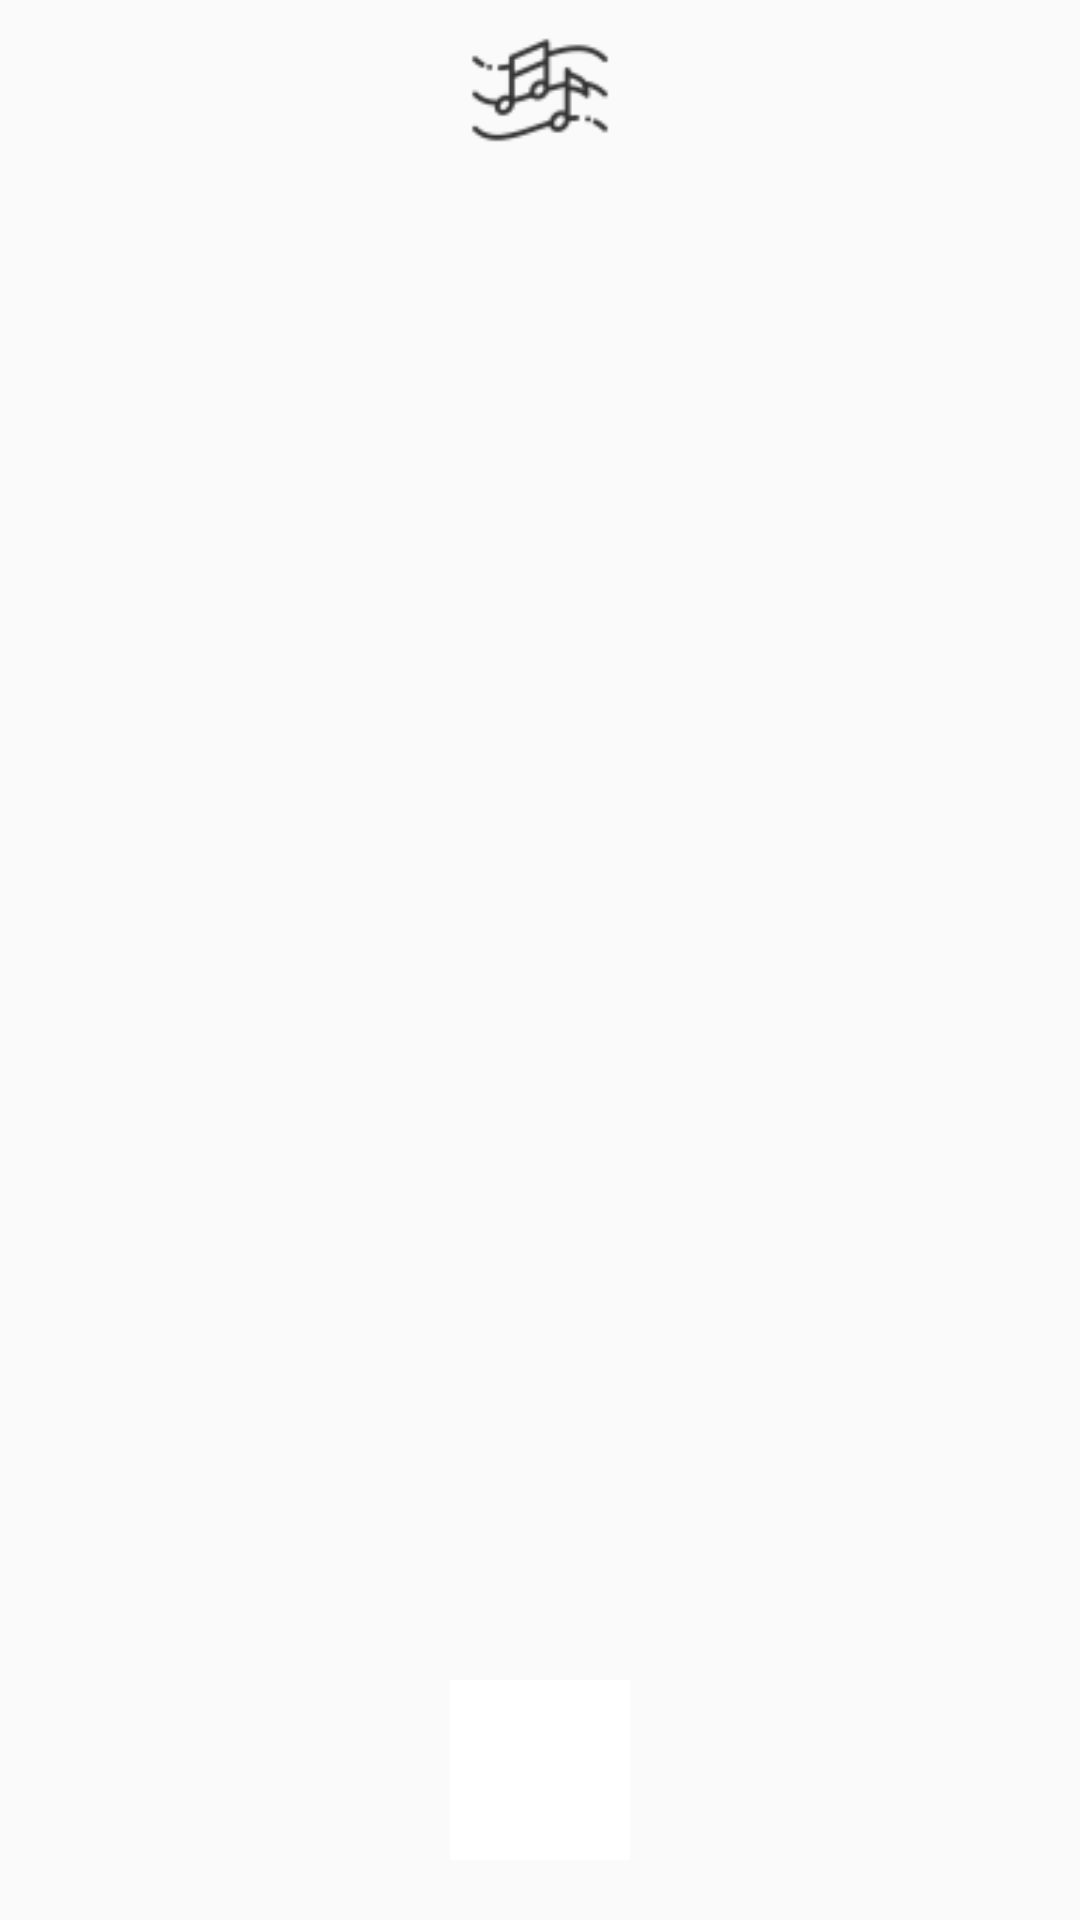

Where icons sit on this 1080w x 1920h app screen, as (x1, y1, x2, y2):
music main: (471, 38, 609, 142)
